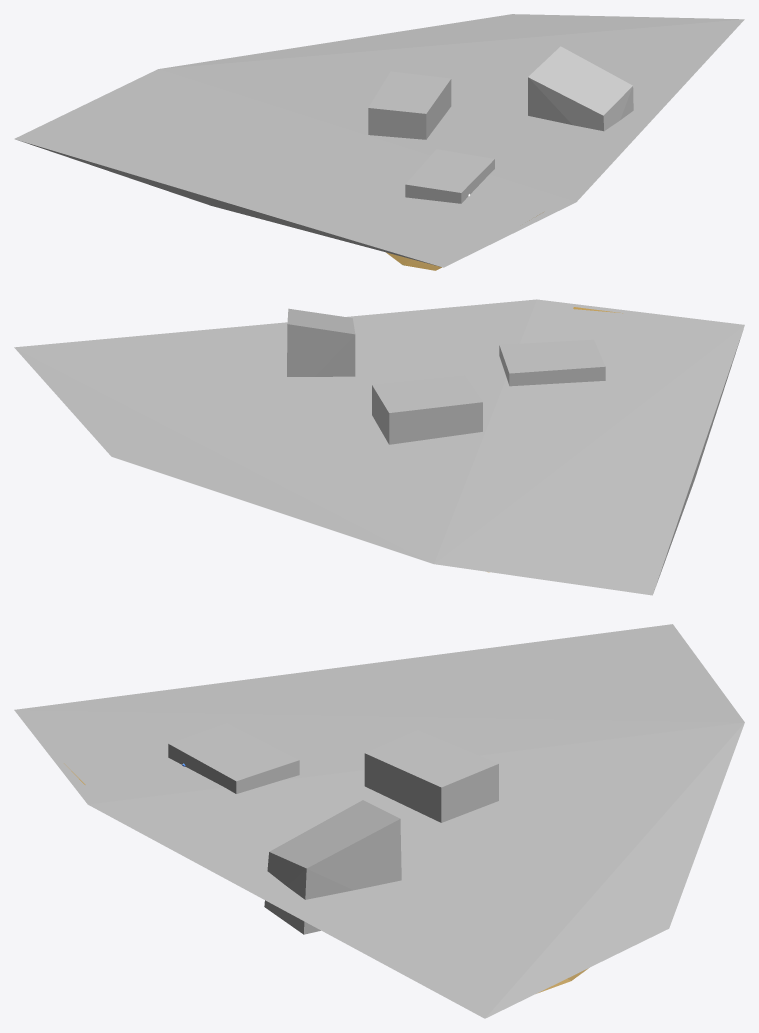
The model's file is SM_Trash_Ground.fbx.
3 views of the same model, one above another, from view 1: azimuth 30°, elevation 25°; view 2: azimuth 150°, elevation 25°; view 3: azimuth 270°, elevation 25° (orthographic). The views are drawn at different scales.
Parts seen in each view (by area): view 1: SM_Trash_Ground_ConvexHulls; view 2: SM_Trash_Ground_ConvexHulls; view 3: SM_Trash_Ground_ConvexHulls.
Boxes of the visible parts, bbox=[...] form: SM_Trash_Ground_ConvexHulls: bbox=[14, 14, 744, 267]; SM_Trash_Ground_ConvexHulls: bbox=[14, 299, 744, 595]; SM_Trash_Ground_ConvexHulls: bbox=[14, 624, 744, 1018].
Size of the model in its own units: 138 by 104 by 15.99.
